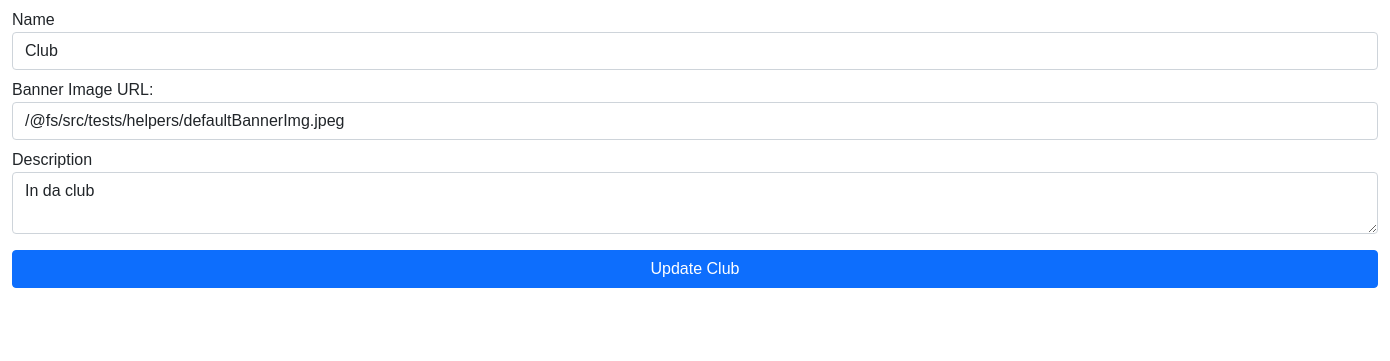
Test: EditClubForm › Shows validation error when name is greater than 30 characters
The image size is (1390, 361).
# Shows error on submit because current input is invalid
Replace the text in the field labelled "Name" with "aksdkajsndkankdjsnkandkndjsankjdnkajn": coordinates (695, 51) x1=12 y1=32 x2=1378 y2=70
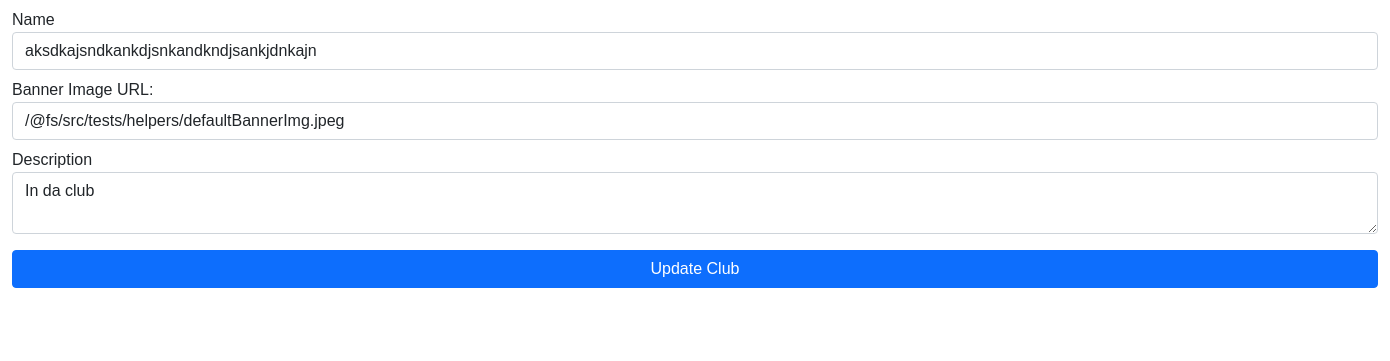
Click the button "Update Club": coordinates (695, 269) x1=12 y1=250 x2=1378 y2=288
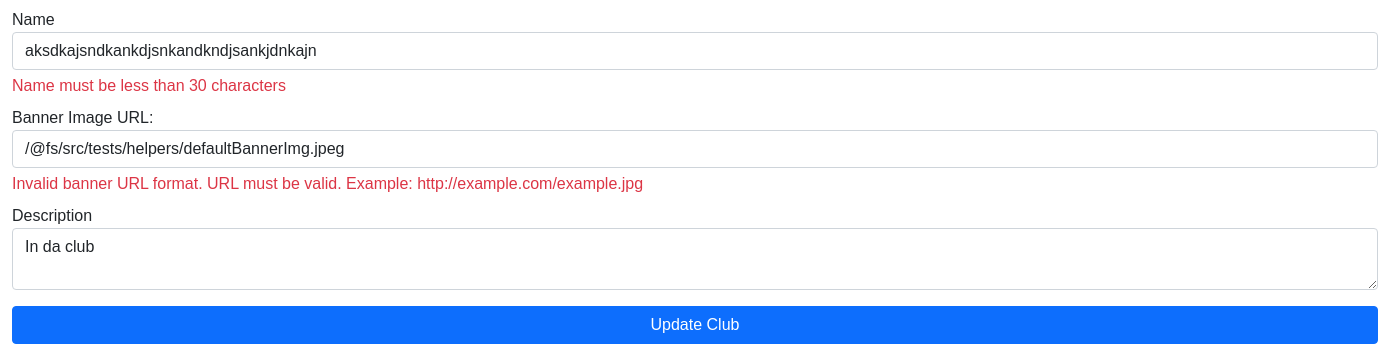
expect the text "Name must be less than 30 characters" is shown: met, box x1=12 y1=77 x2=286 y2=94
